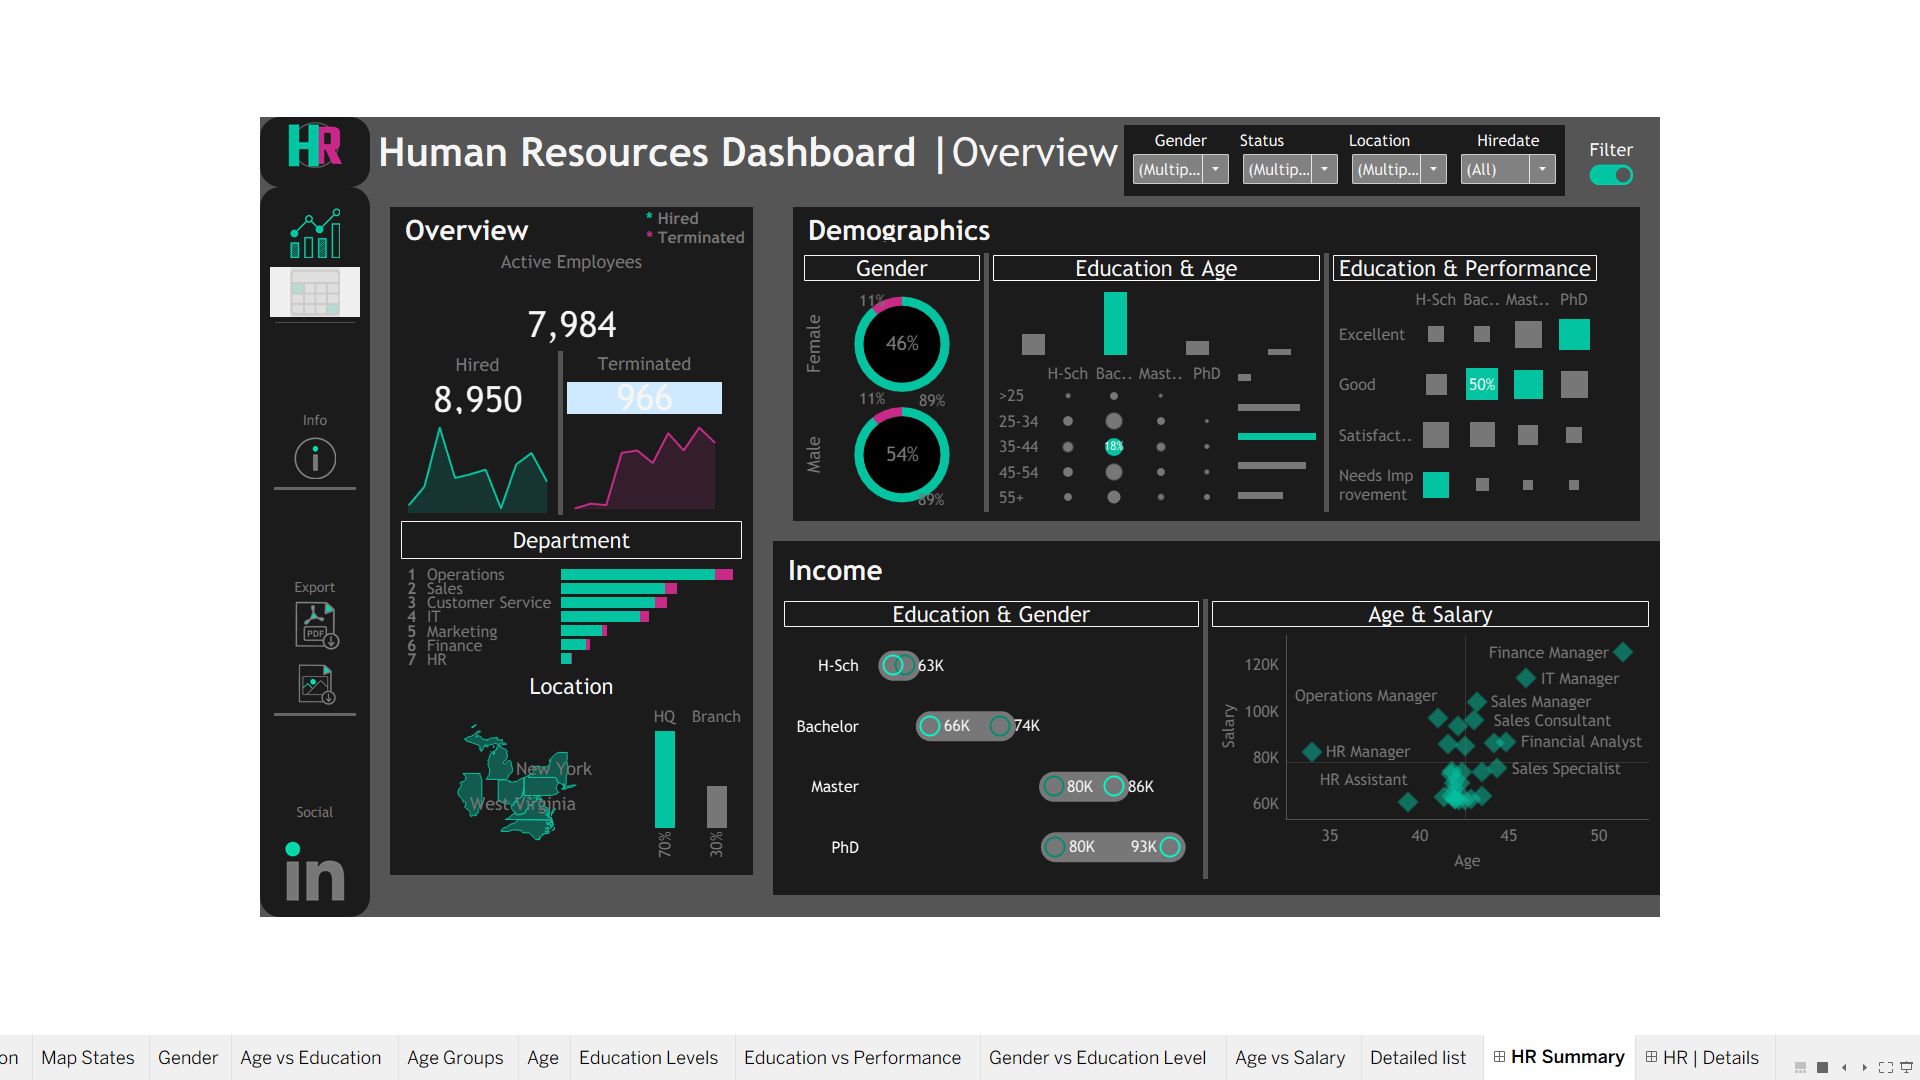

The page's visual inventory and layout, read from the dashboard file:
{"tool":"tableau","page":{"name":"HR Summary","canvas":[1400,800],"ordinal":0},"visuals":[{"type":"image","param":"Image/Logo.png","box":[0,0,110,55]},{"type":"text","box":[110,0,877,70]},{"type":"blank","box":[111,0,1287,303]},{"type":"blank","box":[987,0,413,70]},{"type":"filter","title":"Gender vs Education Level","param":"[federated.0504dih0p3k7wz1fgrhvc043pf4p].[none:Gender:nk]","box":[866,10,110,67]},{"type":"filter","title":"Gender vs Education Level","param":"[federated.0504dih0p3k7wz1fgrhvc043pf4p].[none:Calculation_0720485285113856:nk]","box":[976,10,109,67]},{"type":"filter","title":"Gender vs Education Level","param":"[federated.0504dih0p3k7wz1fgrhvc043pf4p].[none:Calculation_1235880558428165:nk]","box":[1085,10,109,67]},{"type":"filter","title":"Gender vs Education Level","param":"[federated.0504dih0p3k7wz1fgrhvc043pf4p].[yr:Hiredate:ok]","box":[1194,10,109,67]},{"type":"text","box":[1309,18,85,30]},{"type":"dashboard-object","box":[1329,38,44,39]},{"type":"blank","box":[10,80,90,11]},{"type":"dashboard-object","box":[10,91,90,50]},{"type":"text","box":[382,92,110,38]},{"type":"text","box":[137,97,349,32]},{"type":"text","box":[540,97,833,32]},{"type":"text","box":[137,129,349,32]},{"type":"text","box":[540,134,184,34]},{"type":"blank","box":[724,134,5,263]},{"type":"text","box":[729,134,335,34]},{"type":"blank","box":[1064,134,5,263]},{"type":"text","box":[1069,134,272,34]},{"type":"blank","box":[10,141,90,9]},{"type":"dashboard-object","box":[10,150,90,50]},{"type":"worksheet","title":"BAN Active","mark":"Text","box":[137,161,349,71]},{"type":"worksheet","title":"Gender","mark":"Pie","rows":["Gender"],"cols":["Calculation_1235880866603015","Calculation_1235880866603015"],"box":[540,168,184,229]},{"type":"worksheet","title":"Education Levels","mark":"Bar","rows":["Calculation_1235880530583552"],"cols":["Education Level"],"box":[729,168,335,74]},{"type":"worksheet","title":"Education vs Performance","mark":"Square","rows":["Performance Rating"],"cols":["Education Level"],"box":[1069,168,272,229]},{"type":"blank","box":[10,200,90,11]},{"type":"blank","box":[10,211,90,80.3]},{"type":"text","box":[137,232,161,32]},{"type":"blank","box":[298,232,5,168]},{"type":"text","box":[303,232,163,29]},{"type":"worksheet","title":"Age vs Education","mark":"Circle","rows":["Calculation_1235880870592521"],"cols":["Education Level"],"box":[729,242,245,155]},{"type":"worksheet","title":"Age Groups","mark":"Bar","rows":["Calculation_1235880870592521"],"cols":["Calculation_1235880530583552"],"box":[974,242,90,155]},{"type":"worksheet","title":"BAN Terminated","mark":"Text","box":[303,261,163,40]},{"type":"worksheet","title":"BAN Hired","mark":"Text","box":[137,264,161,37]},{"type":"text","box":[10,291.3,90,25]},{"type":"worksheet","title":"Hired by Year","mark":"Line","rows":["Calculation_1235880530583552","Calculation_1235880530583552"],"cols":["Hiredate"],"box":[137,301,161,99]},{"type":"worksheet","title":"Terminated by Year","mark":"Line","rows":["Calculation_1235880530980865","Calculation_1235880530980865"],"cols":["Termdate"],"box":[303,301,163,99]},{"type":"text","box":[111,303,1287,252]},{"type":"text","box":[109,305,1289,209]},{"type":"dashboard-object","box":[10,316.3,90,50]},{"type":"blank","box":[10,366.3,90,11]},{"type":"blank","box":[10,377.3,90,80.3]},{"type":"text","box":[137,400,349,46]},{"type":"text","box":[520,431,873,44]},{"type":"worksheet","title":"Departments","mark":"Bar","rows":["Calculation_1235880557813764","Department"],"cols":["Calculation_1235880530583552"],"box":[137,446,349,107]},{"type":"text","box":[10,457.7,90,25]},{"type":"text","box":[520,480,423,34]},{"type":"blank","box":[943,480,5,284]},{"type":"text","box":[948,480,445,34]},{"type":"dashboard-object","box":[10,482.7,90,50]},{"type":"blank","box":[109,514,1289,286]},{"type":"worksheet","title":"Gender vs Education Level","mark":"Shape","rows":["Education Level"],"cols":["Salary","Salary"],"box":[520,514,423,250]},{"type":"worksheet","title":"Age vs Salary","mark":"Shape","rows":["Salary"],"cols":["Calculation_1235880869093384"],"box":[948,514,445,250]},{"type":"blank","box":[10,532.7,90,9]},{"type":"dashboard-object","box":[10,541.7,90,50]},{"type":"text","box":[137,553,349,32]},{"type":"blank","box":[111,555,1287,245]},{"type":"worksheet","title":"Map States","mark":"Automatic","box":[137,585,238,161]},{"type":"worksheet","title":"Location","mark":"Bar","rows":["Calculation_1235880530583552"],"cols":["Calculation_1235880558428165"],"box":[375,585,111,161]},{"type":"blank","box":[10,591.7,90,11]},{"type":"blank","box":[10,602.7,90,80.3]},{"type":"text","box":[10,683,90,25]},{"type":"blank","box":[10,708,90,11]},{"type":"image","param":"Image/contact-linkedin.png","box":[10,719,90,71]}]}

Visuals, with their boxes on the page's 1400x800 design canvas (x1, y1, x2, y2). These are canvas units, not pixel positions in the 1920x1080 screenshot, which may show the page scaled, cropped or inside an application window:
image: bbox=[0, 0, 110, 55]
text: bbox=[110, 0, 987, 70]
blank: bbox=[111, 0, 1398, 303]
blank: bbox=[987, 0, 1400, 70]
"Gender vs Education Level" filter: bbox=[866, 10, 976, 77]
"Gender vs Education Level" filter: bbox=[976, 10, 1085, 77]
"Gender vs Education Level" filter: bbox=[1085, 10, 1194, 77]
"Gender vs Education Level" filter: bbox=[1194, 10, 1303, 77]
text: bbox=[1309, 18, 1394, 48]
dashboard-object: bbox=[1329, 38, 1373, 77]
blank: bbox=[10, 80, 100, 91]
dashboard-object: bbox=[10, 91, 100, 141]
text: bbox=[382, 92, 492, 130]
text: bbox=[137, 97, 486, 129]
text: bbox=[540, 97, 1373, 129]
text: bbox=[137, 129, 486, 161]
text: bbox=[540, 134, 724, 168]
blank: bbox=[724, 134, 729, 397]
text: bbox=[729, 134, 1064, 168]
blank: bbox=[1064, 134, 1069, 397]
text: bbox=[1069, 134, 1341, 168]
blank: bbox=[10, 141, 100, 150]
dashboard-object: bbox=[10, 150, 100, 200]
"BAN Active" worksheet (Text marks): bbox=[137, 161, 486, 232]
"Gender" worksheet (Pie marks): bbox=[540, 168, 724, 397]
"Education Levels" worksheet (Bar marks): bbox=[729, 168, 1064, 242]
"Education vs Performance" worksheet (Square marks): bbox=[1069, 168, 1341, 397]
blank: bbox=[10, 200, 100, 211]
blank: bbox=[10, 211, 100, 291]
text: bbox=[137, 232, 298, 264]
blank: bbox=[298, 232, 303, 400]
text: bbox=[303, 232, 466, 261]
"Age vs Education" worksheet (Circle marks): bbox=[729, 242, 974, 397]
"Age Groups" worksheet (Bar marks): bbox=[974, 242, 1064, 397]
"BAN Terminated" worksheet (Text marks): bbox=[303, 261, 466, 301]
"BAN Hired" worksheet (Text marks): bbox=[137, 264, 298, 301]
text: bbox=[10, 291, 100, 316]
"Hired by Year" worksheet (Line marks): bbox=[137, 301, 298, 400]
"Terminated by Year" worksheet (Line marks): bbox=[303, 301, 466, 400]
text: bbox=[111, 303, 1398, 555]
text: bbox=[109, 305, 1398, 514]
dashboard-object: bbox=[10, 316, 100, 366]
blank: bbox=[10, 366, 100, 377]
blank: bbox=[10, 377, 100, 458]
text: bbox=[137, 400, 486, 446]
text: bbox=[520, 431, 1393, 475]
"Departments" worksheet (Bar marks): bbox=[137, 446, 486, 553]
text: bbox=[10, 458, 100, 483]
text: bbox=[520, 480, 943, 514]
blank: bbox=[943, 480, 948, 764]
text: bbox=[948, 480, 1393, 514]
dashboard-object: bbox=[10, 483, 100, 533]
blank: bbox=[109, 514, 1398, 800]
"Gender vs Education Level" worksheet (Shape marks): bbox=[520, 514, 943, 764]
"Age vs Salary" worksheet (Shape marks): bbox=[948, 514, 1393, 764]
blank: bbox=[10, 533, 100, 542]
dashboard-object: bbox=[10, 542, 100, 592]
text: bbox=[137, 553, 486, 585]
blank: bbox=[111, 555, 1398, 800]
"Map States" worksheet: bbox=[137, 585, 375, 746]
"Location" worksheet (Bar marks): bbox=[375, 585, 486, 746]
blank: bbox=[10, 592, 100, 603]
blank: bbox=[10, 603, 100, 683]
text: bbox=[10, 683, 100, 708]
blank: bbox=[10, 708, 100, 719]
image: bbox=[10, 719, 100, 790]
